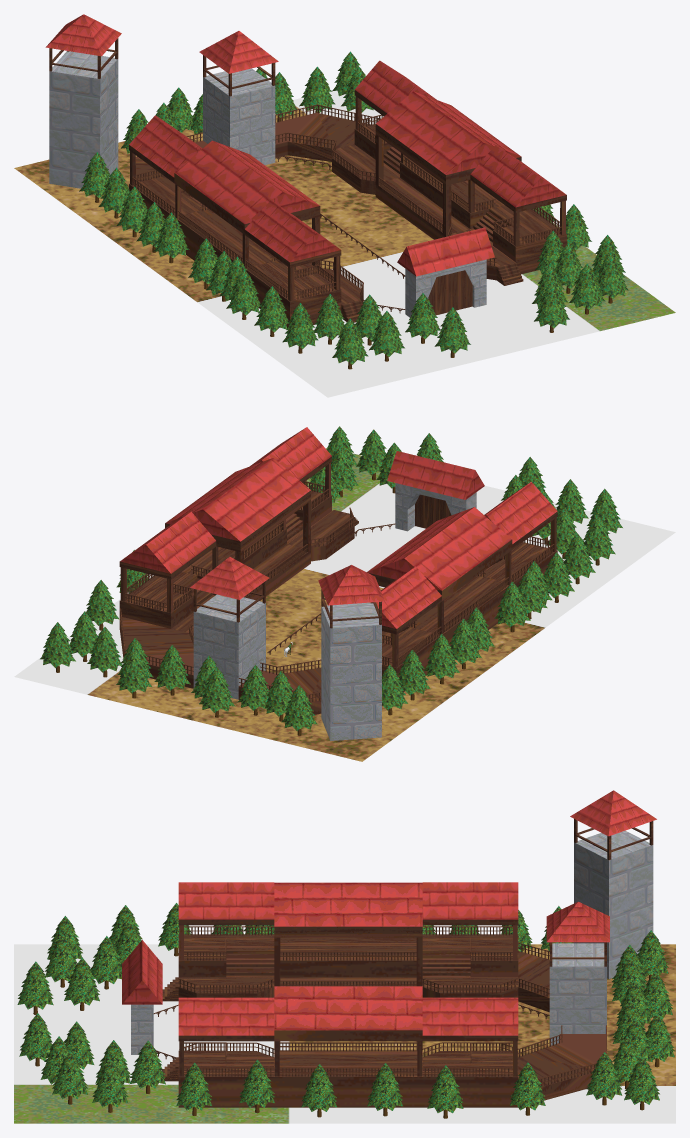
Rendered from BaseArena.fbx.
3 views of the same model, one above another, from view 1: azimuth 30°, elevation 25°; view 2: azimuth 150°, elevation 25°; view 3: azimuth 270°, elevation 25° (orthographic). The views are drawn at different scales.
Visible parts, largest first — view 1: LateralStructure1, Floor, Tower2, Tower1, ViewFences, MainDoor, ToTower, Leaf.021, Leaf.016, Leaf.017, Leaf.036, Leaf.037 (+22 smaller); view 2: LateralStructure1, Floor, Tower2, Tower1, MainDoor, ViewFences, ToTower, Leaf.032, Leaf.028, Leaf.041, Leaf.002, Leaf.030 (+22 smaller); view 3: LateralStructure1, Floor, Tower2, ViewFences, Tower1, ToTower, MainDoor, Leaf.003, Leaf.007, Leaf.005, Leaf.002, Leaf.009 (+27 smaller).
Boxes of the visible parts, x1,y1,x2,y2 form: LateralStructure1: [129, 60, 566, 328]; Floor: [14, 90, 675, 397]; Tower2: [45, 14, 121, 188]; Tower1: [199, 31, 278, 165]; ViewFences: [132, 104, 561, 299]; MainDoor: [397, 227, 494, 317]; ToTower: [135, 112, 370, 181]; Leaf.021: [153, 212, 189, 263]; Leaf.016: [254, 286, 289, 336]; Leaf.017: [226, 269, 261, 319]; Leaf.036: [569, 263, 605, 314]; Leaf.037: [534, 282, 569, 332]; LateralStructure1: [119, 427, 557, 692]; Floor: [14, 448, 675, 761]; Tower2: [318, 565, 384, 740]; Tower1: [190, 556, 269, 699]; MainDoor: [387, 451, 484, 531]; ViewFences: [120, 481, 554, 701]; ToTower: [119, 616, 321, 714]; Leaf.032: [116, 648, 152, 698]; Leaf.028: [281, 685, 317, 735]; Leaf.041: [87, 627, 122, 677]; Leaf.002: [40, 622, 75, 672]; Leaf.030: [154, 644, 190, 695]; LateralStructure1: [178, 882, 518, 1107]; Floor: [14, 944, 675, 1123]; Tower2: [570, 790, 656, 978]; ViewFences: [178, 926, 606, 1086]; Tower1: [546, 901, 609, 1045]; ToTower: [518, 951, 605, 1100]; MainDoor: [122, 940, 162, 1054]; Leaf.003: [586, 1052, 622, 1105]; Leaf.007: [301, 1063, 337, 1117]; Leaf.005: [367, 1063, 403, 1116]; Leaf.002: [624, 1056, 659, 1110]; Leaf.009: [176, 1062, 212, 1115].
Bounding box in the file's own units: 5708 × 2625 × 8815.
